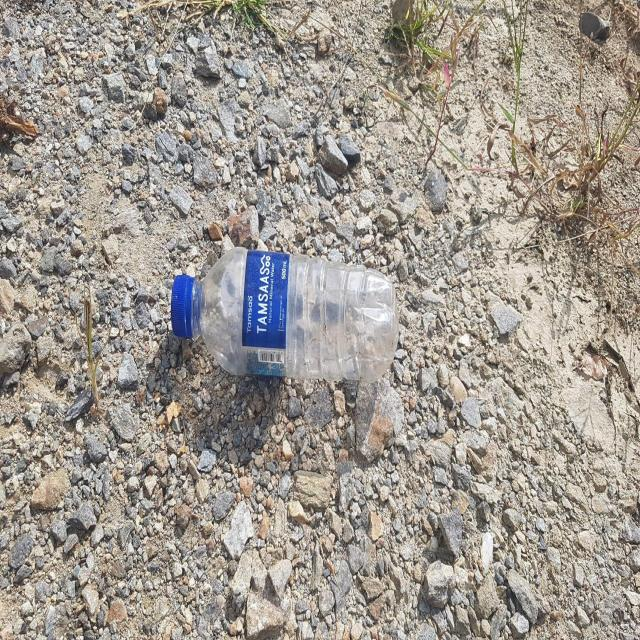plastic: (171, 246, 399, 382)
